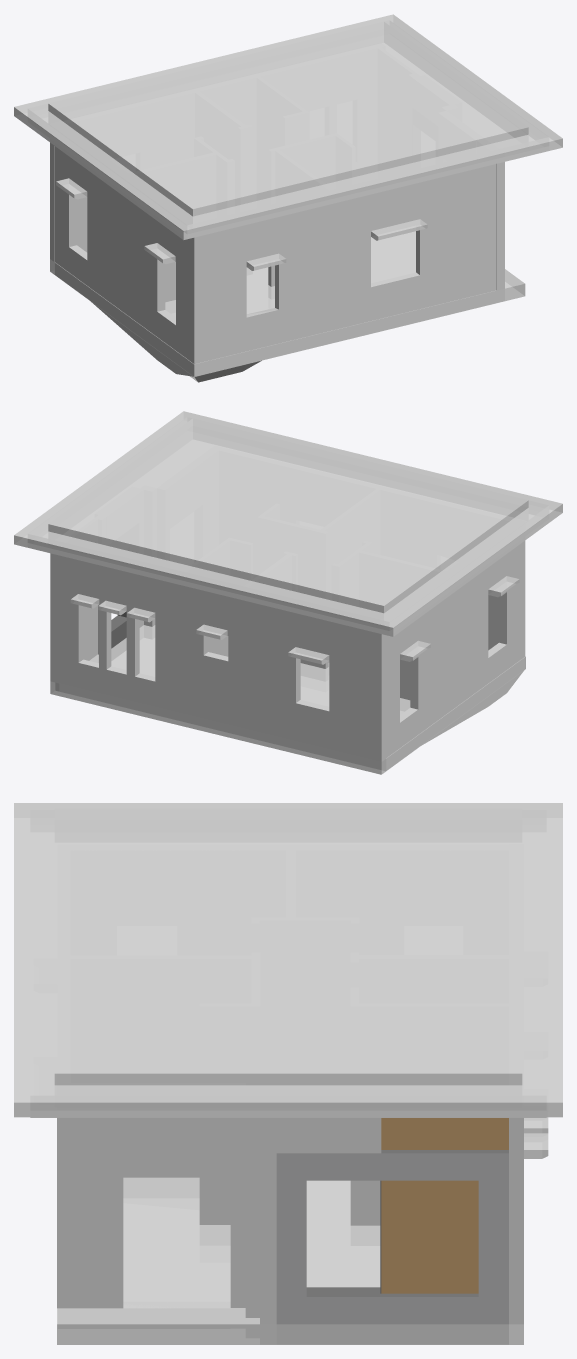
The picture shows the model from 3 angles, top to bottom: view 1: azimuth 30°, elevation 25°; view 2: azimuth 150°, elevation 25°; view 3: azimuth 270°, elevation 25°; orthographic projection. The views are drawn at different scales.
Parts seen in each view (by area): view 1: Node240, Node121, Node239, Node135, Node234, Node251, Node233, Node258, Node229, Node237, Node249, Node228 (+18 smaller); view 2: Node240, Node239, Node95, Node135, Node234, Node251, Node231, Node256, Node235, Node247, Node245, Node229 (+20 smaller); view 3: Node240, Node239, Node330, Node229, Node251, Node228, Node149, Node234, Node15, Node245, Node250, Node230 (+22 smaller).
Boxes of the visible parts, <box> form: Node240: <box>48,21,527,208</box>; Node121: <box>194,164,496,375</box>; Node239: <box>64,43,512,215</box>; Node135: <box>55,146,194,376</box>; Node234: <box>14,14,562,230</box>; Node251: <box>28,20,548,225</box>; Node233: <box>194,284,525,376</box>; Node258: <box>50,29,383,120</box>; Node229: <box>55,231,524,364</box>; Node237: <box>183,138,562,239</box>; Node249: <box>188,138,548,233</box>; Node228: <box>52,232,522,316</box>; Node240: <box>49,418,527,605</box>; Node239: <box>64,440,507,612</box>; Node95: <box>50,553,381,761</box>; Node135: <box>386,541,525,769</box>; Node234: <box>14,411,562,627</box>; Node251: <box>28,417,548,621</box>; Node231: <box>50,681,381,774</box>; Node256: <box>193,426,526,516</box>; Node235: <box>14,535,393,636</box>; Node247: <box>28,534,388,630</box>; Node245: <box>16,510,560,635</box>; Node229: <box>89,625,525,758</box>; Node240: <box>54,808,522,1073</box>; Node239: <box>55,843,521,1084</box>; Node330: <box>276,1153,508,1343</box>; Node229: <box>57,1177,380,1324</box>; Node251: <box>30,810,546,1095</box>; Node228: <box>57,1181,523,1344</box>; Node149: <box>57,1118,230,1328</box>; Node234: <box>14,803,562,1102</box>; Node15: <box>381,1118,508,1293</box>; Node245: <box>14,818,562,1116</box>; Node250: <box>31,833,545,1094</box>; Node230: <box>57,1324,523,1344</box>.
Size of the model in its own units: 370 by 167 by 287.
